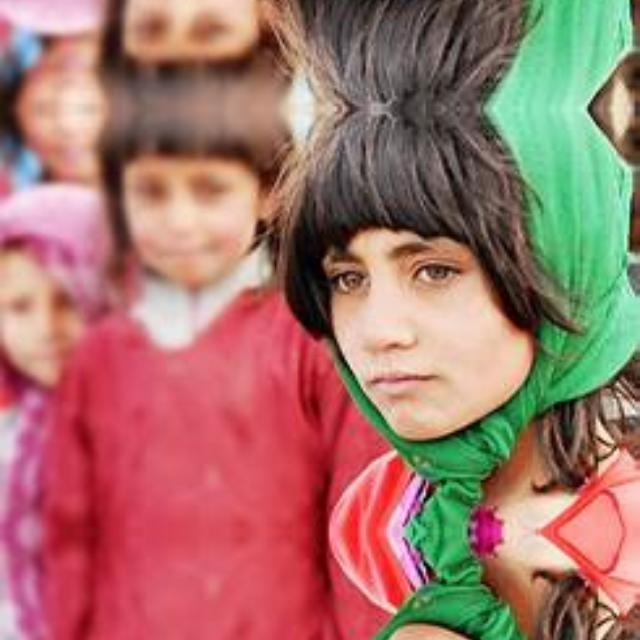person: (270, 121, 640, 531), (270, 531, 639, 640), (270, 0, 639, 95)
